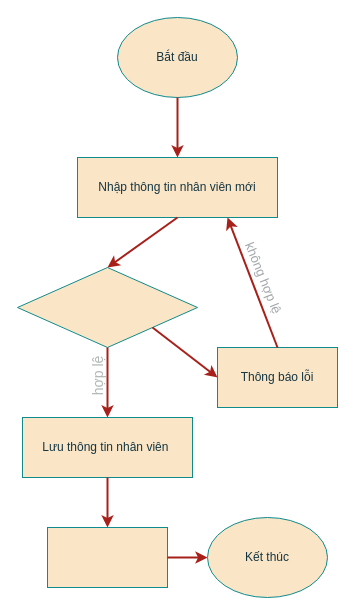
This 355x615 diagram has some shape labels left out. Each missing label, with the centre of its shape:
Kiểm tra thông tin: [107,307]
Xác nhận lưu: [107,557]
